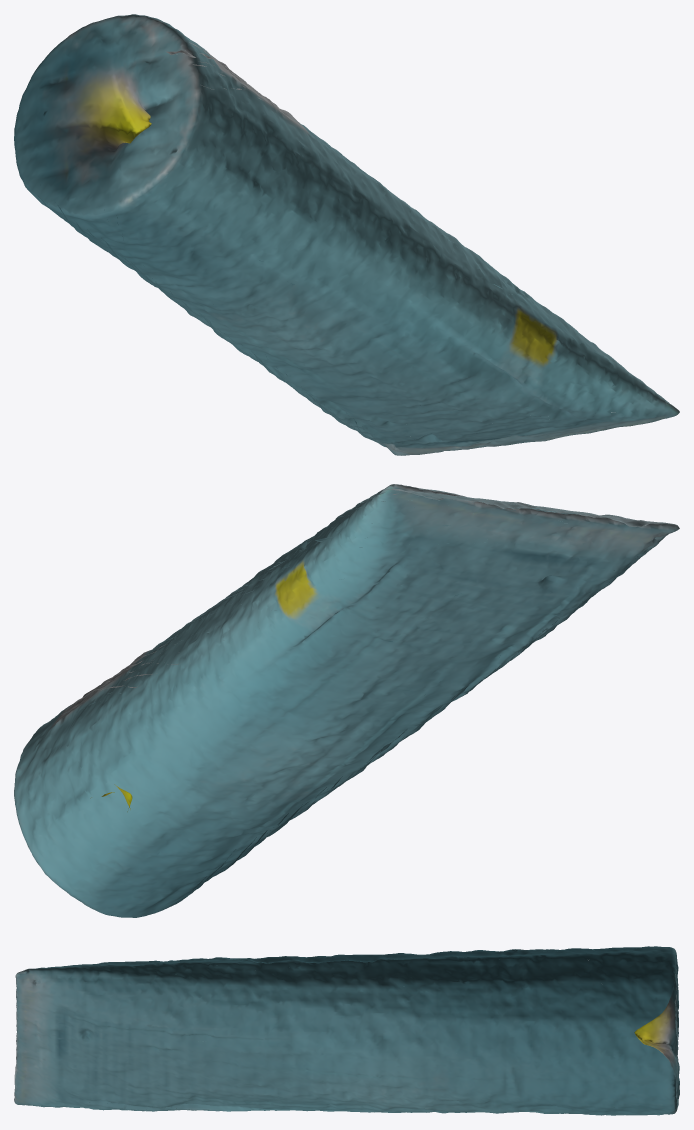
Rendered from oil.glb.
3 views of the same model, one above another, from view 1: azimuth 30°, elevation 25°; view 2: azimuth 150°, elevation 25°; view 3: azimuth 270°, elevation 25° (orthographic). The views are drawn at different scales.
Bounding box in the file's own units: 0.3855 × 0.2539 × 1.
